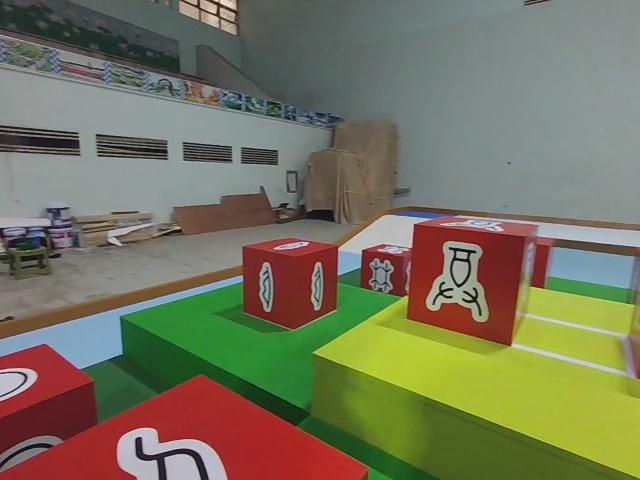R2 Real: (0, 369, 371, 480), (405, 211, 542, 347), (0, 340, 99, 476), (240, 232, 342, 331), (358, 240, 421, 298)
